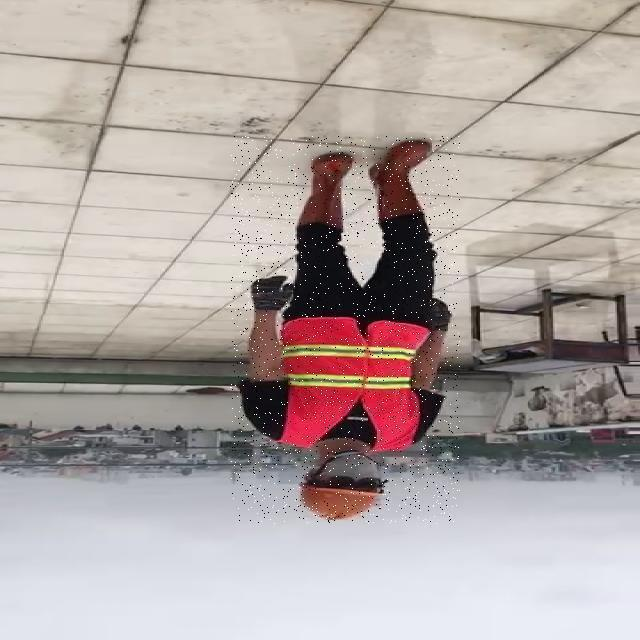gloves: (243, 274, 294, 316), (424, 296, 461, 334)
